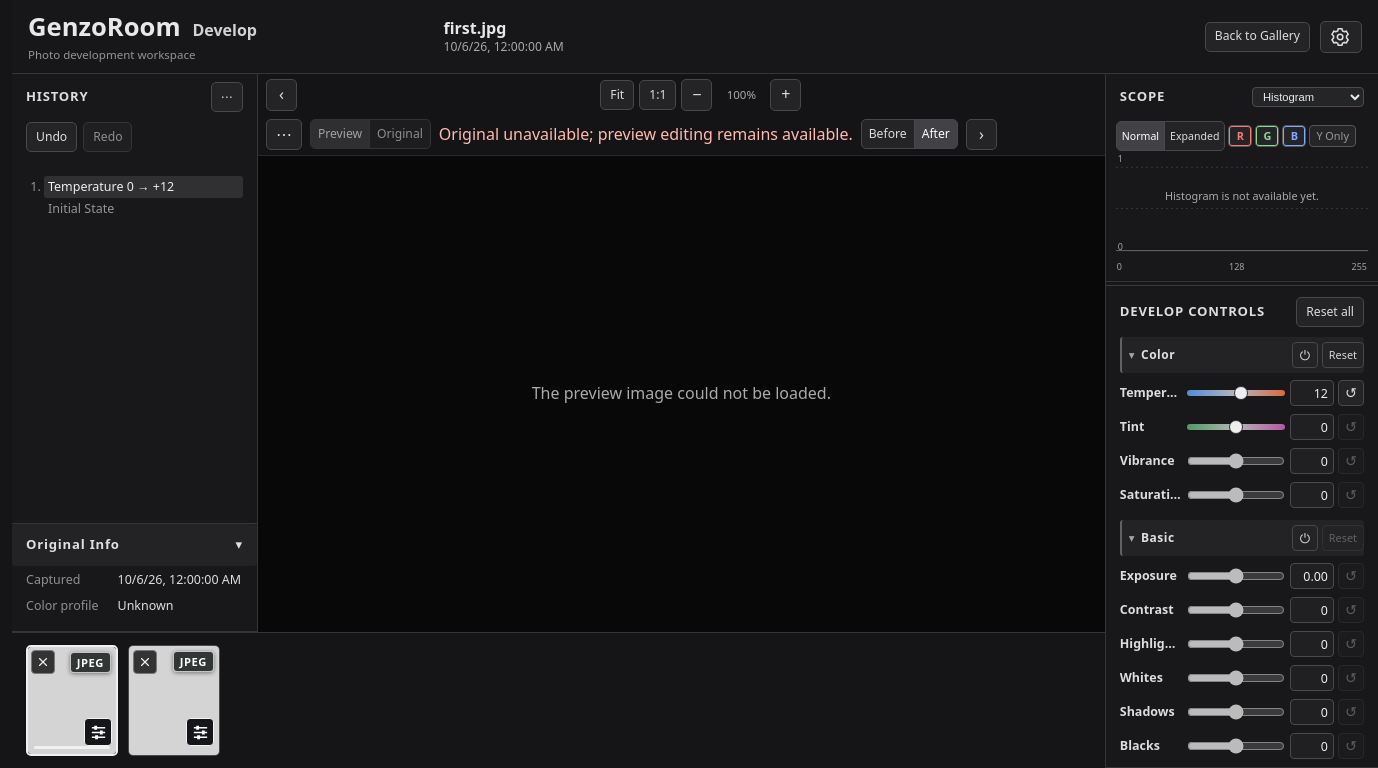
Anshitsu Export Queue integration › uses Backend eligibility for unvisited assets and reports not eligible
Click the 2nd button with class "edited-badge".
click(200, 732)  # box [186,718,214,746]
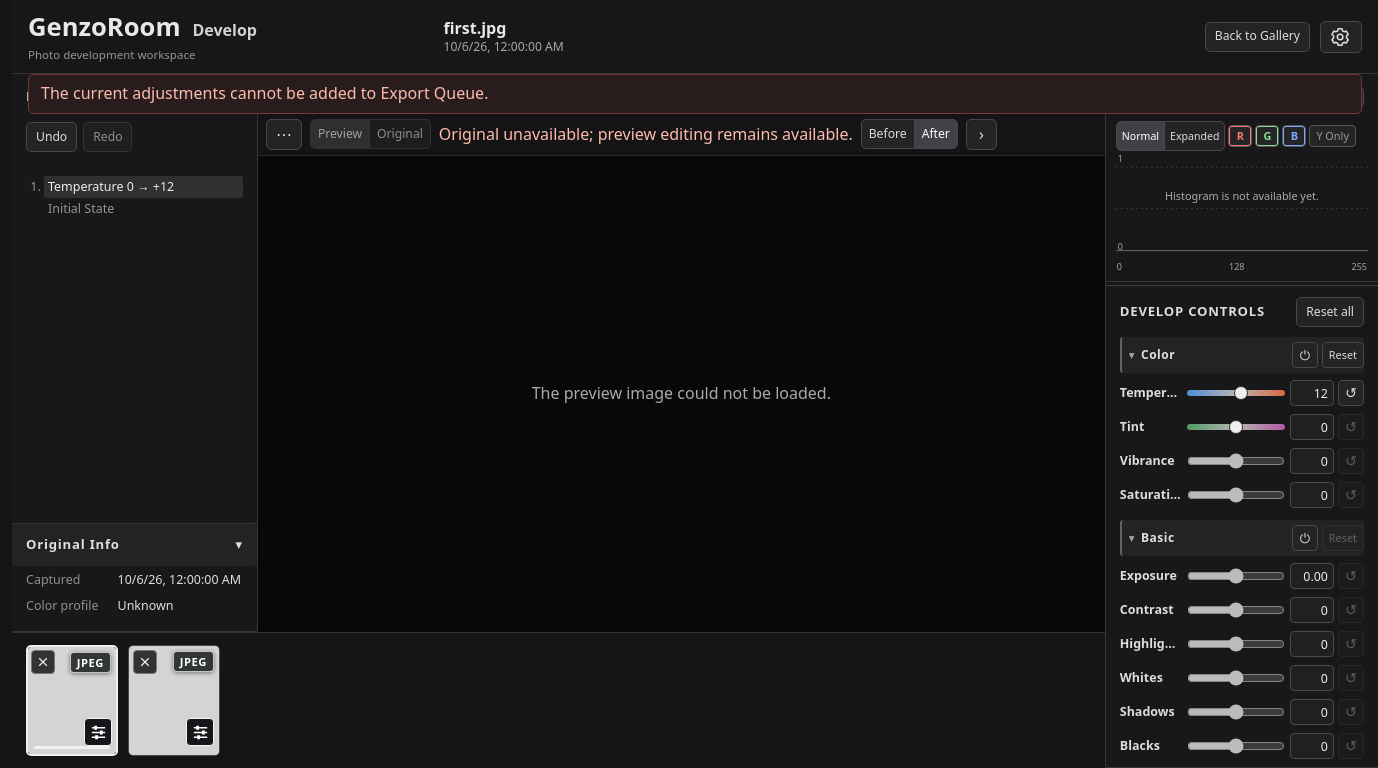
expect the message with class "workspace-queue-error" shows "current adjustments": met, box [41,82,488,104]
